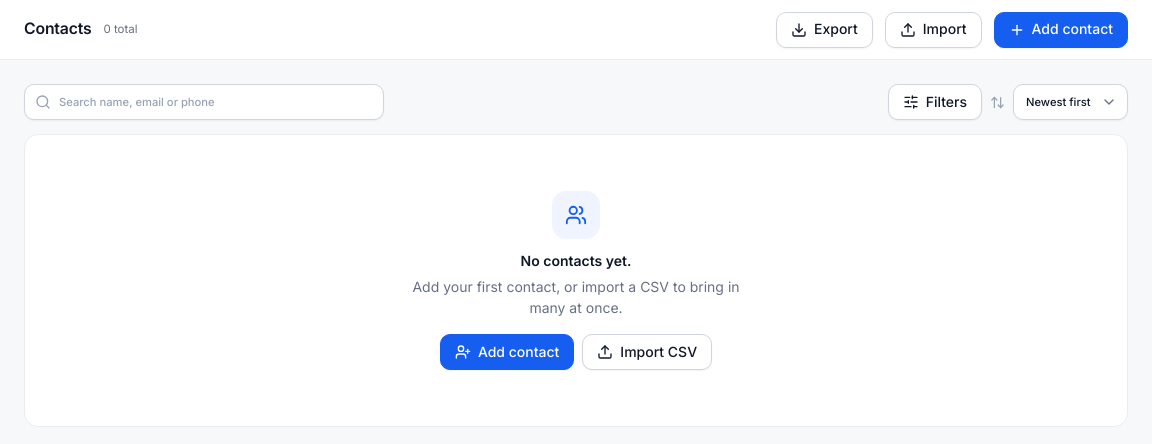
Test case: ContactsView states › shows "No contacts match" when a search finds nothing, with a way to clear it
In the search field with placeholder "Search name, email or phone": (204, 102) left=24, top=84, right=384, bottom=120, type "zzzz"
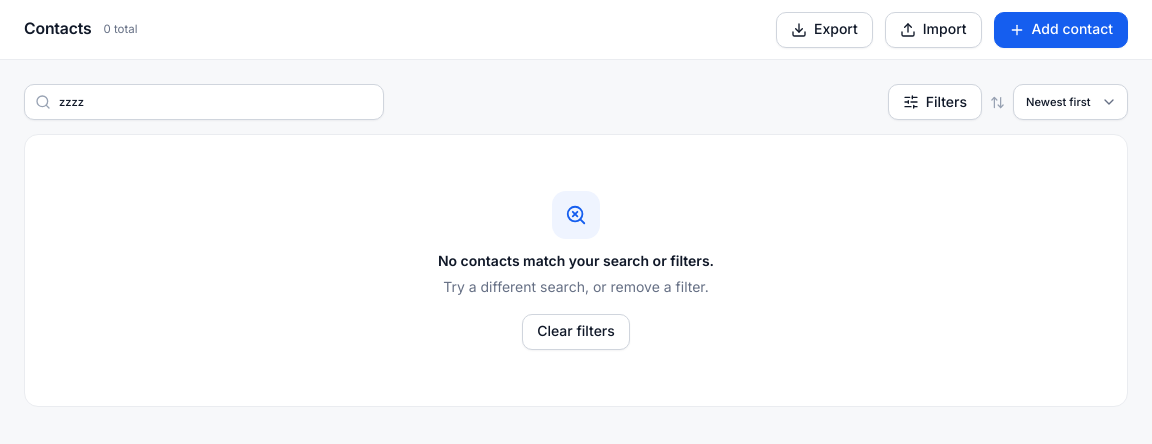
Result: the text "No contacts match your search or filters" is shown at left=438, top=252, right=714, bottom=269
Result: the button "Clear filters" is shown at left=522, top=314, right=630, bottom=350
